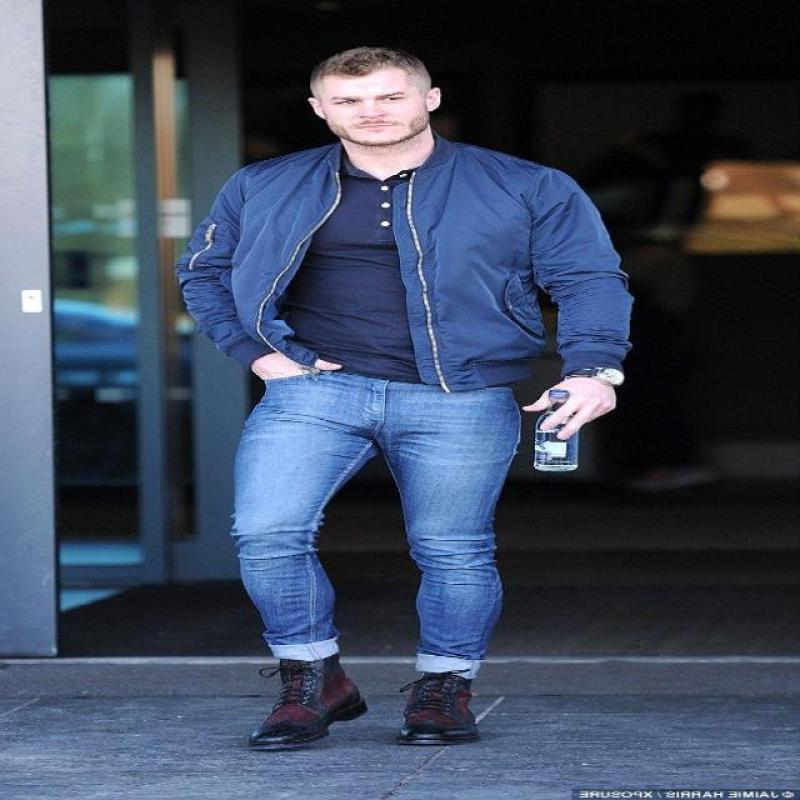jacket: (168, 134, 638, 385)
short sleeve shirt: (283, 151, 435, 389)
trousers: (226, 374, 523, 678)
